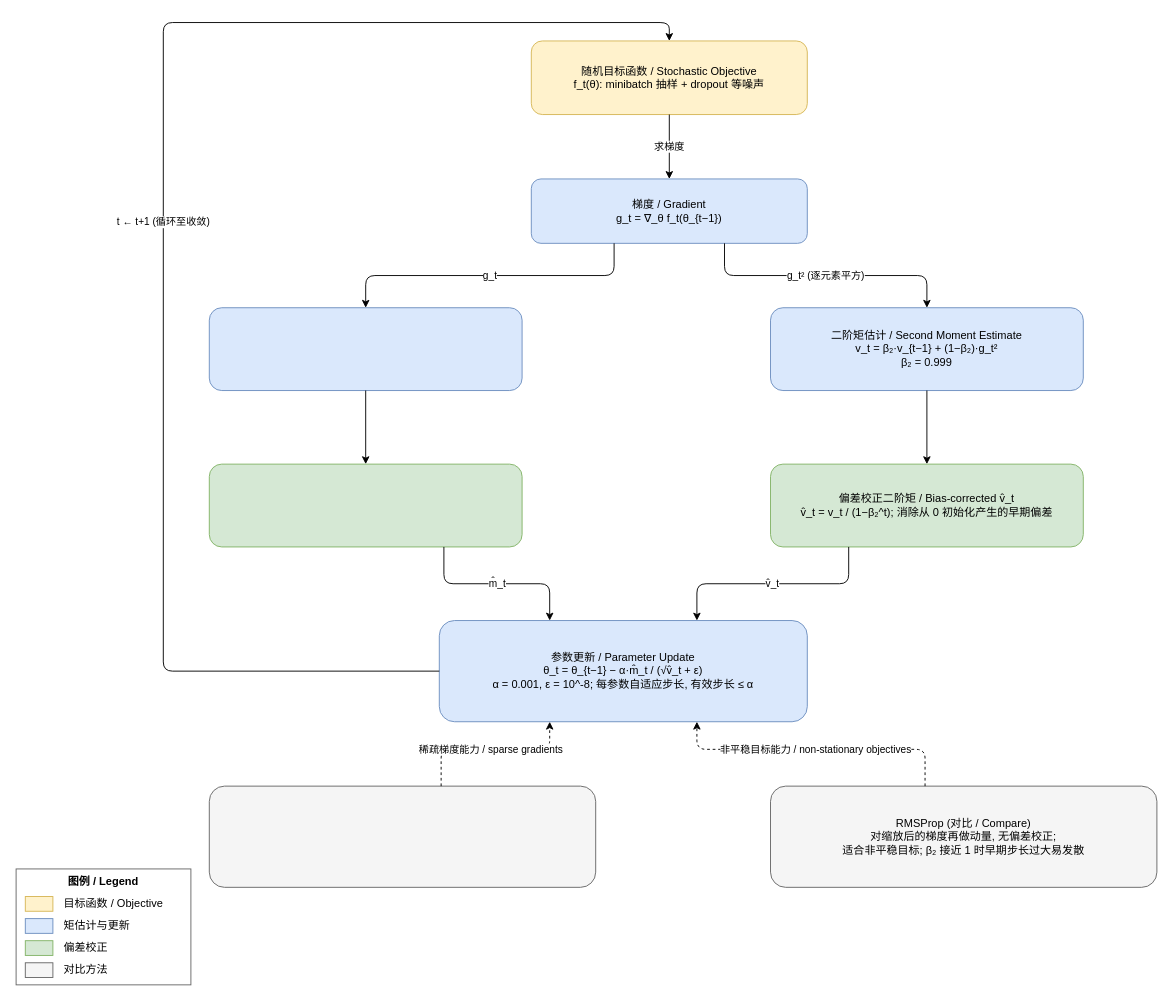
This 1173x1001 diagram has some shape labels left out. Each missing label, with the centre of its shape:
"AdaGrad (对比 / Compare) θ ← θ − α·g / √Σg²: 累加全部历史梯度平方, 步长只减不增; 擅长稀疏梯度" goes at point 402,836.
"一阶矩估计 / First Moment Estimate m_t = β₁·m_{t−1} + (1−β₁)·g_t β₁ = 0.9 (类似动量)" goes at point 365,349.
"偏差校正一阶矩 / Bias-corrected m̂_t m̂_t = m_t / (1−β₁^t)" goes at point 365,505.
